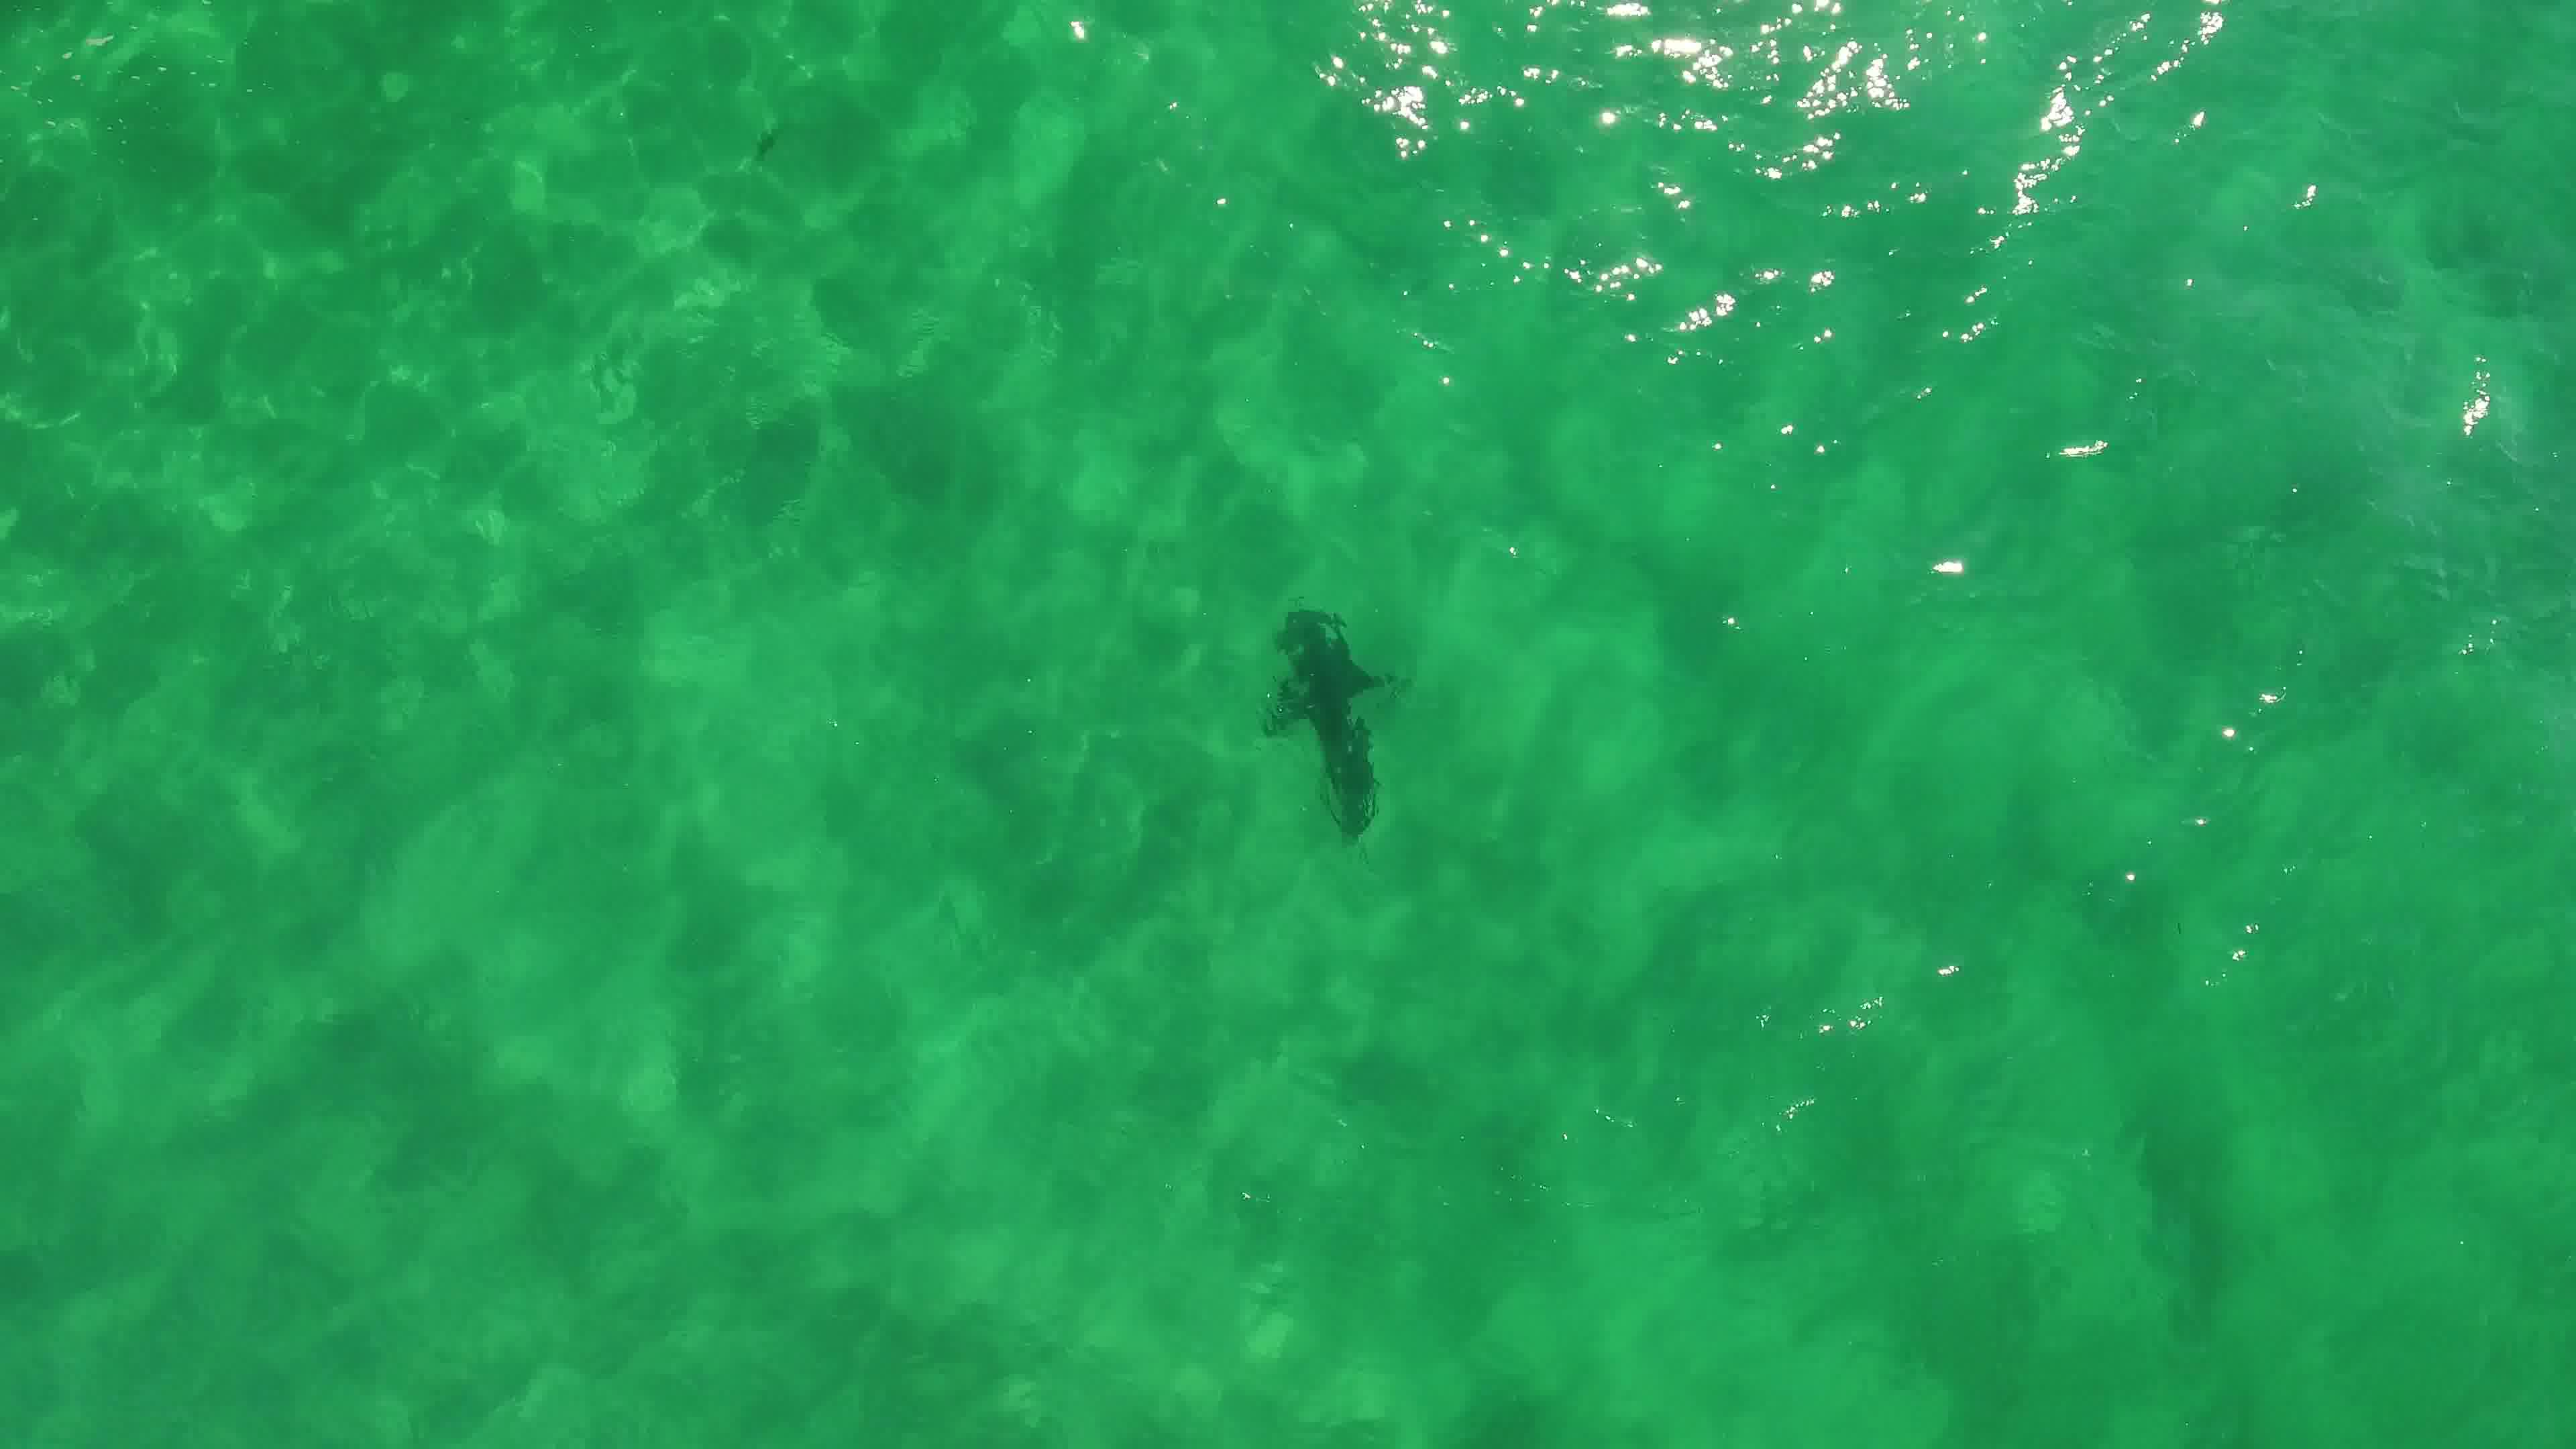shark: (1254, 602, 1419, 849)
